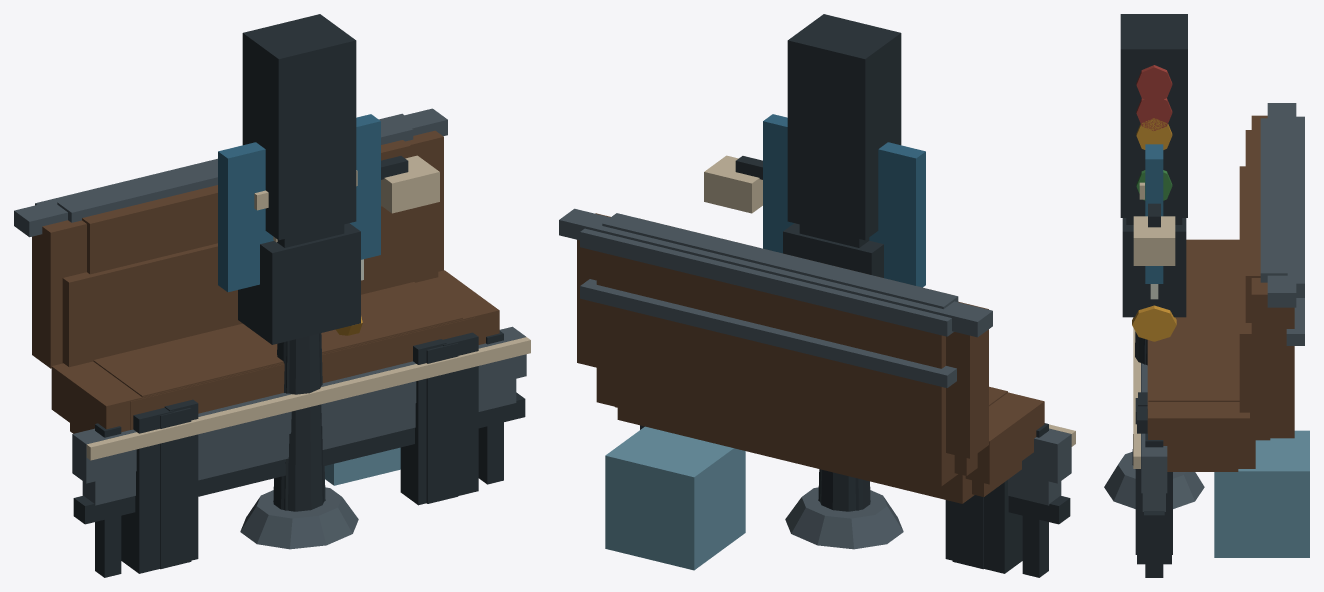
The model's file is props.a22ae716f91c.glb.
3 renders of one model, left to right at view 1: azimuth 30°, elevation 25°; view 2: azimuth 150°, elevation 25°; view 3: azimuth 270°, elevation 25°, orthographic. The views are drawn at different scales.
Visible parts, largest first — view 1: traffic-light__near, wood-fence__near, highway-guardrail__near, construction-barrier__near, utility-box__near, fire-hydrant__near, pedestrian-signal__near, park-details__near, road-sign__near, highway-guardrail__far, park-bench__near, road-lamp__near (+1 smaller); view 2: park-bench__near, fire-hydrant__near, traffic-light__near, wood-fence__near, park-details__near, road-sign__near, construction-barrier__near, highway-guardrail__near, road-lamp__near, pedestrian-signal__near, highway-guardrail__far, utility-box__near (+1 smaller); view 3: construction-barrier__near, wood-fence__near, traffic-light__near, park-details__near, pedestrian-signal__near, highway-guardrail__near, utility-box__near, fire-hydrant__near, road-lamp__near, park-bench__near, road-sign__near, traffic-light__mid (+1 smaller).
Boxes of the visible parts, x1,y1,x2,y2 form: traffic-light__near: [240, 14, 358, 549]; wood-fence__near: [14, 108, 499, 573]; highway-guardrail__near: [72, 326, 530, 577]; construction-barrier__near: [57, 119, 462, 559]; utility-box__near: [62, 202, 438, 433]; fire-hydrant__near: [35, 113, 475, 568]; pedestrian-signal__near: [238, 223, 363, 344]; park-details__near: [87, 204, 426, 560]; road-sign__near: [218, 114, 380, 292]; highway-guardrail__far: [82, 379, 516, 505]; park-bench__near: [160, 371, 458, 569]; road-lamp__near: [381, 155, 439, 213]; park-bench__near: [580, 279, 983, 568]; fire-hydrant__near: [580, 228, 983, 567]; traffic-light__near: [785, 14, 903, 549]; wood-fence__near: [559, 208, 1044, 573]; park-details__near: [605, 426, 952, 570]; road-sign__near: [763, 114, 925, 287]; construction-barrier__near: [602, 213, 1007, 559]; highway-guardrail__near: [640, 423, 1075, 577]; road-lamp__near: [704, 155, 762, 213]; pedestrian-signal__near: [783, 223, 883, 277]; highway-guardrail__far: [1008, 473, 1061, 505]; utility-box__near: [615, 407, 1021, 496]; construction-barrier__near: [1138, 118, 1287, 406]; wood-fence__near: [1137, 103, 1296, 564]; traffic-light__near: [1104, 14, 1204, 508]; park-details__near: [1214, 286, 1309, 557]; pedestrian-signal__near: [1122, 218, 1186, 341]; highway-guardrail__near: [1133, 328, 1167, 577]; utility-box__near: [1167, 166, 1270, 471]; fire-hydrant__near: [1135, 116, 1304, 554]; road-lamp__near: [1133, 203, 1175, 265]; park-bench__near: [1135, 298, 1304, 554]; road-sign__near: [1139, 144, 1163, 283]; traffic-light__mid: [1136, 96, 1172, 364].
Bounding box in the file's own units: 0.7912 × 0.84 × 0.3441.
